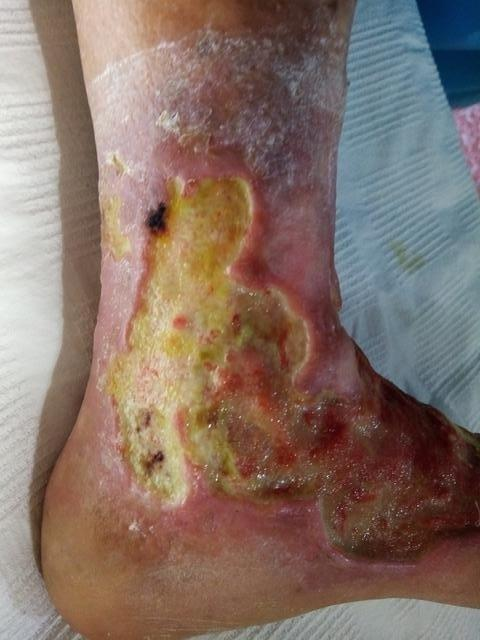wound: (99, 173, 480, 563), (98, 180, 134, 263)
